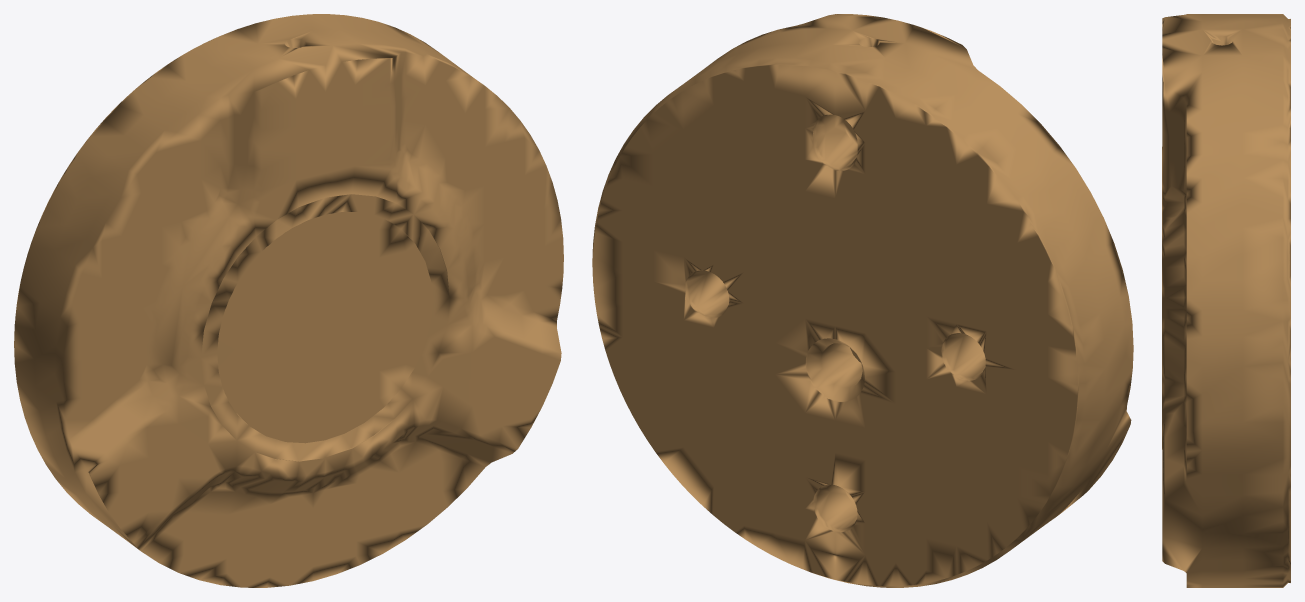
Rendered from lower_parts3.obj.
The picture shows the model from 3 angles, left to right: view 1: azimuth 30°, elevation 25°; view 2: azimuth 150°, elevation 25°; view 3: azimuth 270°, elevation 25°; orthographic projection.
Bounding box in the file's own units: 57.9 × 57.9 × 12.98.
